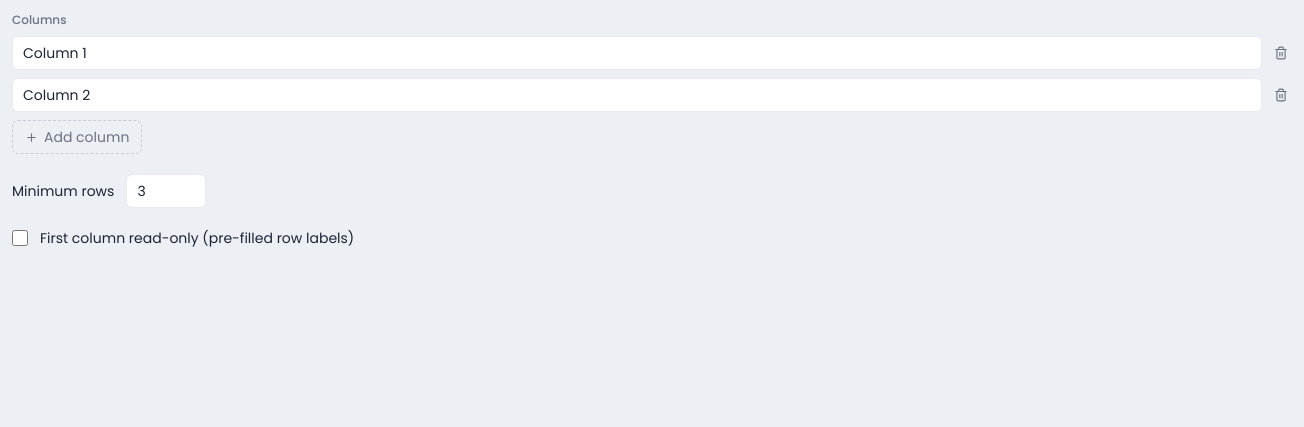
FreeformTableEditor — first column read-only › toggle shows row label inputs (stateful)
This screenshot has width=1304, height=427.
Click the checkbox labelled "First column read-only (pre-filled row labels)" at x=20, y=238, box [12,230,28,246]
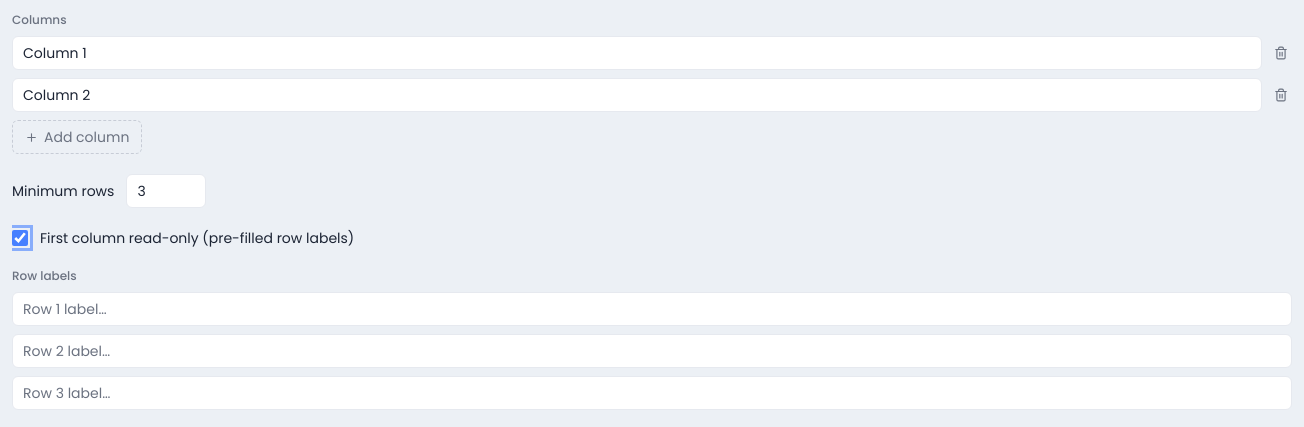
Check: the field labelled "Row 1 label…" is shown, box [12,292,1292,326]
Check: the field labelled "Row 2 label…" is shown, box [12,334,1292,368]
Check: the field labelled "Row 3 label…" is shown, box [12,376,1292,410]
